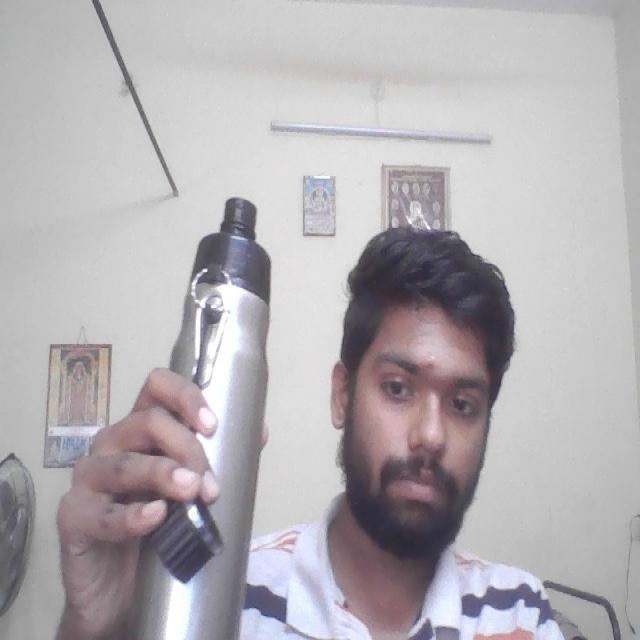Drinking: (140, 185, 280, 640)
